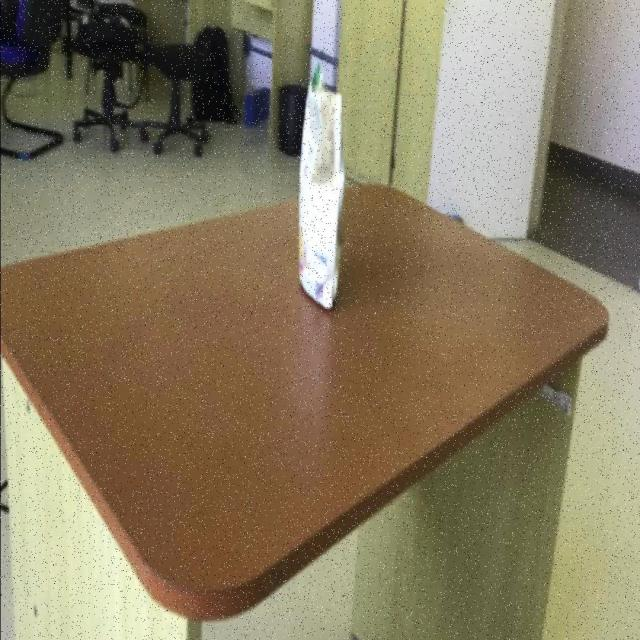CornFlakes: (0, 180, 612, 624), (298, 63, 346, 312)
